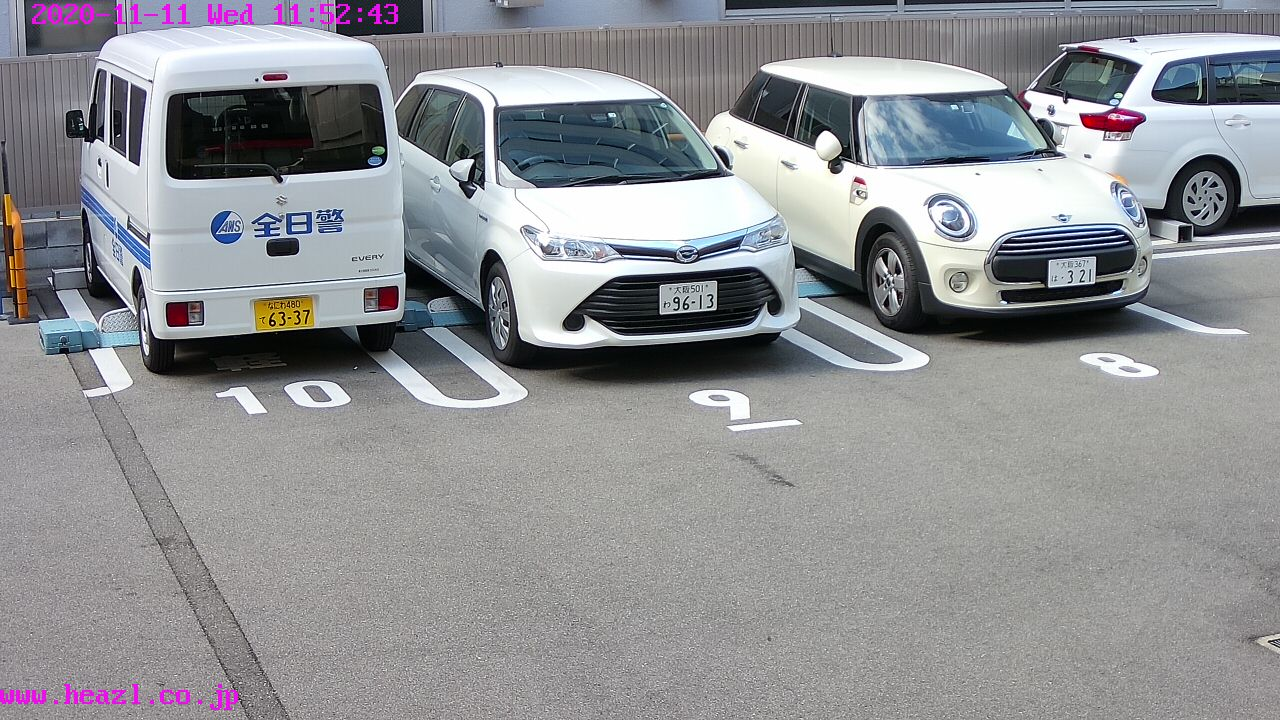number_plate: (252, 296, 316, 328), (658, 282, 719, 308), (1049, 259, 1096, 286)
